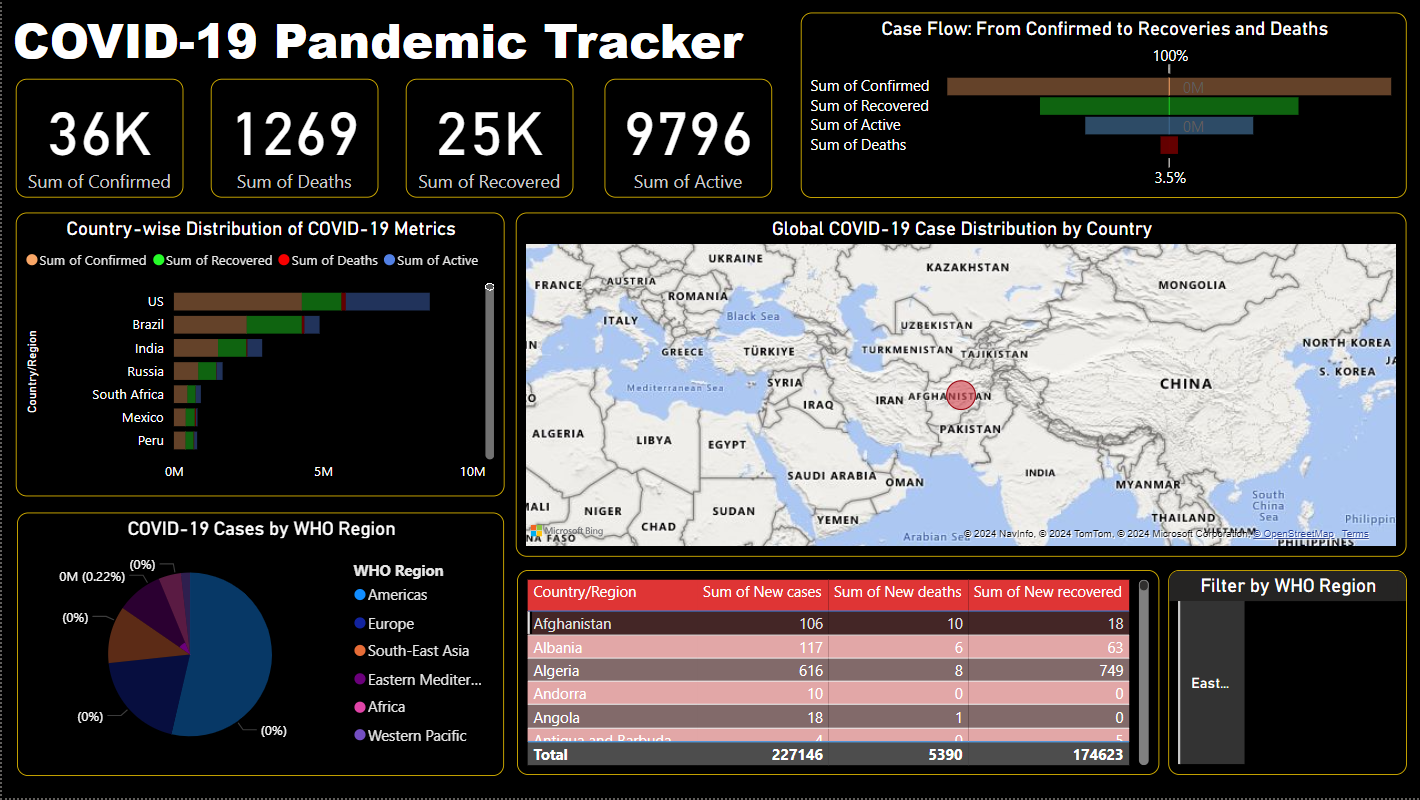

This screenshot's page, from the dashboard's own definition file:
{"tool":"powerbi","page":{"name":"Page 1","canvas":[1280,720],"ordinal":0},"visuals":[{"type":"textbox","box":[0,0,677.4,70.9],"z":0},{"type":"card","fields":{"Values":["Sum(country_wise_latest.Confirmed)"]},"box":[12.5,71.1,150.8,107.2],"z":1000},{"type":"card","fields":{"Values":["Sum(country_wise_latest.Deaths)"]},"box":[188.2,71.1,150.8,107.2],"z":2000},{"type":"card","fields":{"Values":["Sum(country_wise_latest.Recovered)"]},"box":[364,71.1,150.8,107.2],"z":3000},{"type":"card","fields":{"Values":["Sum(country_wise_latest.Active)"]},"box":[543.5,71.1,150.8,107.2],"z":4000},{"type":"map","title":"Global COVID-19 Case Distribution by Country","fields":{"Category":["country_wise_latest.Country/Region"],"Size":["Sum(country_wise_latest.Confirmed)"]},"box":[463.5,192,803.4,310.6],"z":5000},{"type":"barChart","title":"Country-wise Distribution of COVID-19 Metrics","fields":{"Category":["country_wise_latest.Country/Region"],"Y":["Sum(country_wise_latest.Confirmed)","Sum(country_wise_latest.Recovered)","Sum(country_wise_latest.Deaths)","Sum(country_wise_latest.Active)"]},"box":[12.8,191.9,440.7,255.8],"z":6000},{"type":"pieChart","title":"COVID-19 Cases by WHO Region","fields":{"Category":["country_wise_latest.WHO Region"],"Y":["Sum(country_wise_latest.Confirmed)"]},"box":[14,461.6,439.5,237.2],"z":7000},{"type":"tableEx","fields":{"Values":["country_wise_latest.Country/Region","Sum(country_wise_latest.New cases)","Sum(country_wise_latest.New deaths)","Sum(country_wise_latest.New recovered)"]},"box":[464,514,579.1,184.9],"z":8000},{"type":"funnel","title":"Case Flow: From Confirmed to Recoveries and Deaths","fields":{"Y":["Sum(country_wise_latest.Confirmed)","Sum(country_wise_latest.Recovered)","Sum(country_wise_latest.Active)","Sum(country_wise_latest.Deaths)"]},"box":[720.2,11,546.6,167.5],"z":9000},{"type":"advancedSlicerVisual","title":"Filter by WHO Region","fields":{"Values":["country_wise_latest.WHO Region"]},"box":[1051.2,514,215.1,184.9],"z":10000}]}

Visuals, with their boxes in screenshot pixels (x1, y1, x2, y2), scaled from the page's 1280x720 canvas onto the 1420x800 screenshot:
textbox: [0, 0, 751, 79]
card - Sum(country_wise_latest.Confirmed): [14, 79, 181, 198]
card - Sum(country_wise_latest.Deaths): [209, 79, 376, 198]
card - Sum(country_wise_latest.Recovered): [404, 79, 571, 198]
card - Sum(country_wise_latest.Active): [603, 79, 770, 198]
"Global COVID-19 Case Distribution by Country" map: [514, 213, 1405, 558]
"Country-wise Distribution of COVID-19 Metrics" barChart: [14, 213, 503, 497]
"COVID-19 Cases by WHO Region" pieChart: [16, 513, 503, 776]
tableEx - country_wise_latest.Country/Region x Sum(country_wise_latest.New cases): [515, 571, 1157, 777]
"Case Flow: From Confirmed to Recoveries and Deaths" funnel: [799, 12, 1405, 198]
"Filter by WHO Region" advancedSlicerVisual: [1166, 571, 1405, 777]
